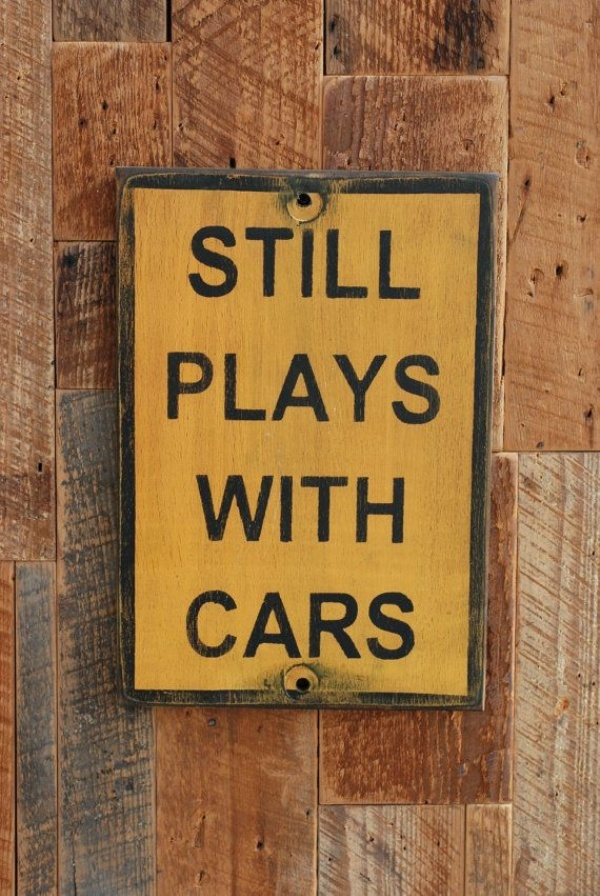text: (193, 225, 208, 301), (209, 225, 224, 301), (225, 225, 240, 301), (241, 225, 256, 301), (257, 225, 272, 301), (273, 225, 288, 301), (289, 225, 304, 301), (305, 225, 320, 301), (321, 225, 336, 301), (337, 225, 352, 301), (353, 225, 368, 301), (369, 225, 384, 301), (385, 225, 400, 301), (401, 225, 416, 301), (177, 351, 192, 426), (193, 351, 208, 426), (209, 351, 224, 426), (225, 351, 240, 426), (241, 351, 256, 426), (257, 351, 272, 426), (273, 351, 288, 426), (289, 351, 304, 426), (305, 351, 320, 426), (321, 351, 336, 426), (337, 351, 352, 426), (353, 351, 368, 426), (369, 351, 384, 426), (385, 351, 400, 426), (401, 351, 416, 426), (417, 351, 432, 426), (193, 589, 208, 661), (209, 589, 224, 661), (225, 589, 240, 661), (241, 589, 256, 661), (257, 589, 272, 661), (273, 589, 288, 661), (289, 589, 304, 661), (305, 589, 320, 661), (321, 589, 336, 661), (337, 589, 352, 661), (353, 589, 368, 661), (369, 589, 384, 661), (385, 589, 400, 661), (193, 474, 208, 545), (209, 474, 224, 545), (225, 474, 240, 545), (241, 474, 256, 545), (257, 474, 272, 545), (273, 474, 288, 545), (289, 474, 304, 545), (305, 474, 320, 545), (321, 474, 336, 545), (337, 474, 352, 545), (353, 474, 368, 545), (369, 474, 384, 545), (385, 474, 400, 545), (401, 589, 415, 661), (164, 351, 176, 426), (433, 351, 440, 426), (185, 589, 192, 661), (417, 225, 422, 301), (401, 474, 405, 545), (189, 225, 192, 301)
